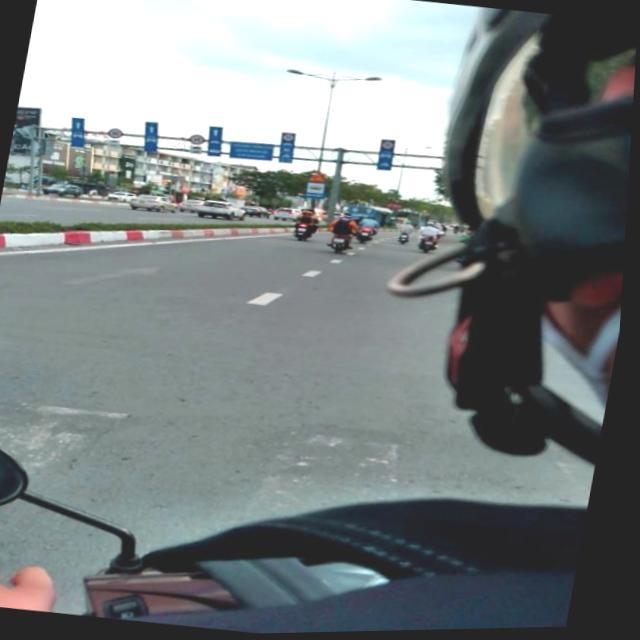Ben xe buyt: (306, 182, 329, 200)
Toc do toi da cho phep: (107, 127, 126, 140), (190, 134, 207, 146), (382, 141, 397, 152), (283, 134, 297, 144)
cho ngoat nguy hiem vong ben phai: (309, 172, 329, 184)
